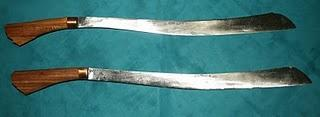facao: (11, 64, 314, 96), (3, 12, 296, 41)
